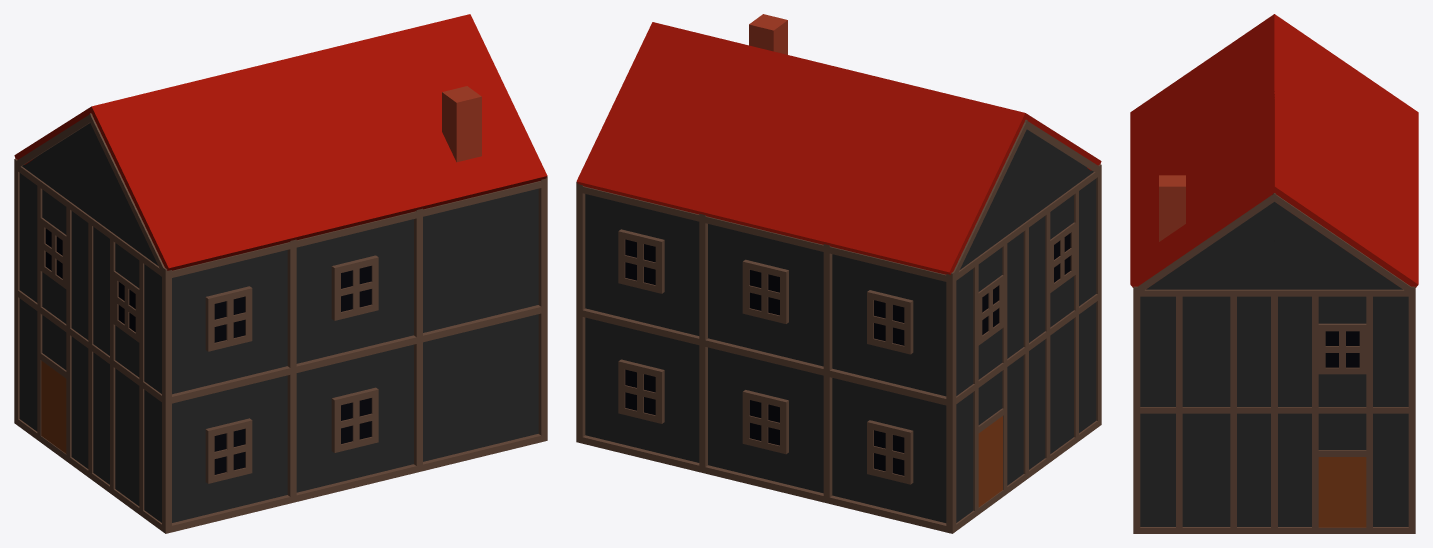
File: timberframedhouse.obj
3 views of the same model, side by side, from view 1: azimuth 30°, elevation 25°; view 2: azimuth 150°, elevation 25°; view 3: azimuth 270°, elevation 25° (orthographic). The views are drawn at different scales.
Parts seen in each view (by area): view 1: Cube.005, Cube.007_Cube.011, Cube.010_Cube.014, Cube.011_Cube.015, Cube.018_Cube.016, Cube.013_Cube.007, Cube.009, Cube.004, Cube.001, Cube.006_Cube.010, Cube.026_Cube.019, Cube.025_Cube.012 (+16 smaller); view 2: Cube.005, Cube.007_Cube.011, Cube.022_Cube.025, Cube.023_Cube.026, Cube.021_Cube.024, Cube.028, Cube.020_Cube.023, Cube.017_Cube.021, Cube.008, Cube.019_Cube.022, Cube.015_Cube.020, Cube.014_Cube.018 (+18 smaller); view 3: Cube.005, Cube.007_Cube.011, Cube.003, Cube.033, Cube.032, Cube.012_Cube.017, Cube.027, Cube.031, Cube.034, Cube.046_Cube.048, Cube.035, Cube.047_Cube.049 (+5 smaller).
Boxes of the visible parts, bbox=[...] form: Cube.005: bbox=[19, 123, 538, 522]; Cube.007_Cube.011: bbox=[14, 14, 547, 270]; Cube.010_Cube.014: bbox=[167, 305, 542, 403]; Cube.011_Cube.015: bbox=[167, 434, 543, 532]; Cube.018_Cube.016: bbox=[167, 181, 541, 278]; Cube.013_Cube.007: bbox=[331, 255, 378, 320]; Cube.009: bbox=[205, 286, 252, 351]; Cube.004: bbox=[205, 418, 252, 483]; Cube.001: bbox=[331, 387, 378, 452]; Cube.006_Cube.010: bbox=[442, 86, 481, 162]; Cube.026_Cube.019: bbox=[162, 267, 171, 533]; Cube.025_Cube.012: bbox=[287, 239, 296, 503]; Cube.005: bbox=[585, 129, 1096, 522]; Cube.007_Cube.011: bbox=[576, 22, 1101, 274]; Cube.022_Cube.025: bbox=[578, 308, 950, 406]; Cube.023_Cube.026: bbox=[578, 435, 950, 533]; Cube.021_Cube.024: bbox=[578, 185, 950, 282]; Cube.028: bbox=[946, 271, 956, 533]; Cube.020_Cube.023: bbox=[867, 420, 913, 484]; Cube.017_Cube.021: bbox=[618, 359, 664, 423]; Cube.008: bbox=[618, 229, 664, 293]; Cube.019_Cube.022: bbox=[742, 390, 788, 454]; Cube.015_Cube.020: bbox=[867, 290, 913, 354]; Cube.014_Cube.018: bbox=[742, 259, 788, 323]; Cube.005: bbox=[1140, 202, 1408, 526]; Cube.007_Cube.011: bbox=[1130, 14, 1418, 287]; Cube.003: bbox=[1318, 457, 1366, 527]; Cube.033: bbox=[1318, 323, 1366, 374]; Cube.032: bbox=[1138, 289, 1410, 296]; Cube.012_Cube.017: bbox=[1133, 286, 1140, 533]; Cube.027: bbox=[1408, 286, 1415, 533]; Cube.031: bbox=[1138, 527, 1410, 533]; Cube.034: bbox=[1271, 289, 1277, 530]; Cube.046_Cube.048: bbox=[1230, 289, 1236, 530]; Cube.035: bbox=[1312, 289, 1318, 530]; Cube.047_Cube.049: bbox=[1176, 289, 1182, 530].
Size of the model in its own units: 12.15 by 11.25 by 8.47.
